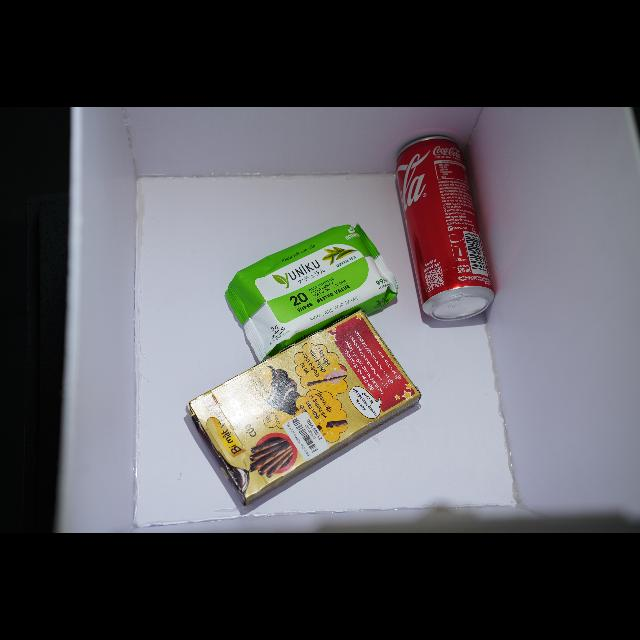banh_toppo_socola: (188, 311, 420, 505)
coca_cola: (396, 136, 494, 321)
khan_giay: (225, 224, 398, 361)
